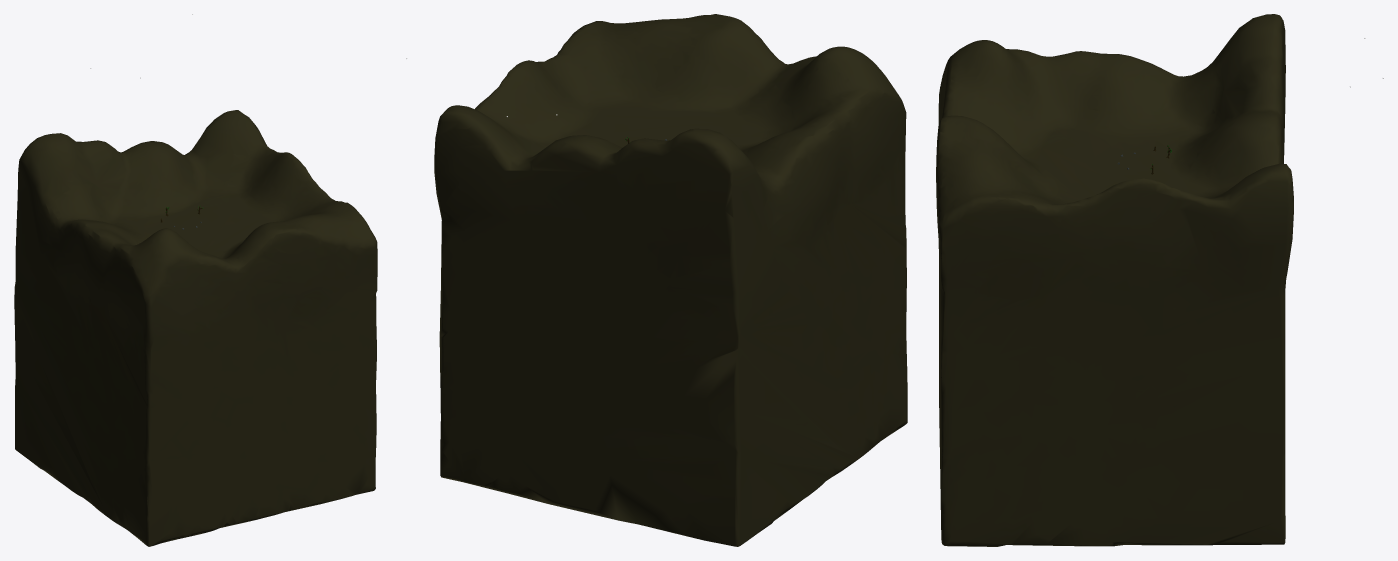
File: bsl_stage.gltf
The picture shows the model from 3 angles, left to right: view 1: azimuth 30°, elevation 25°; view 2: azimuth 150°, elevation 25°; view 3: azimuth 270°, elevation 25°; orthographic projection. The views are drawn at different scales.
Visible parts, largest first — view 1: Layer_1; view 2: Layer_1; view 3: Layer_1.
Boxes of the visible parts, x1,y1,x2,y2 form: Layer_1: [14, 110, 377, 546]; Layer_1: [434, 14, 907, 546]; Layer_1: [936, 14, 1293, 546].
Size of the model in its own units: 246 by 356 by 313.
